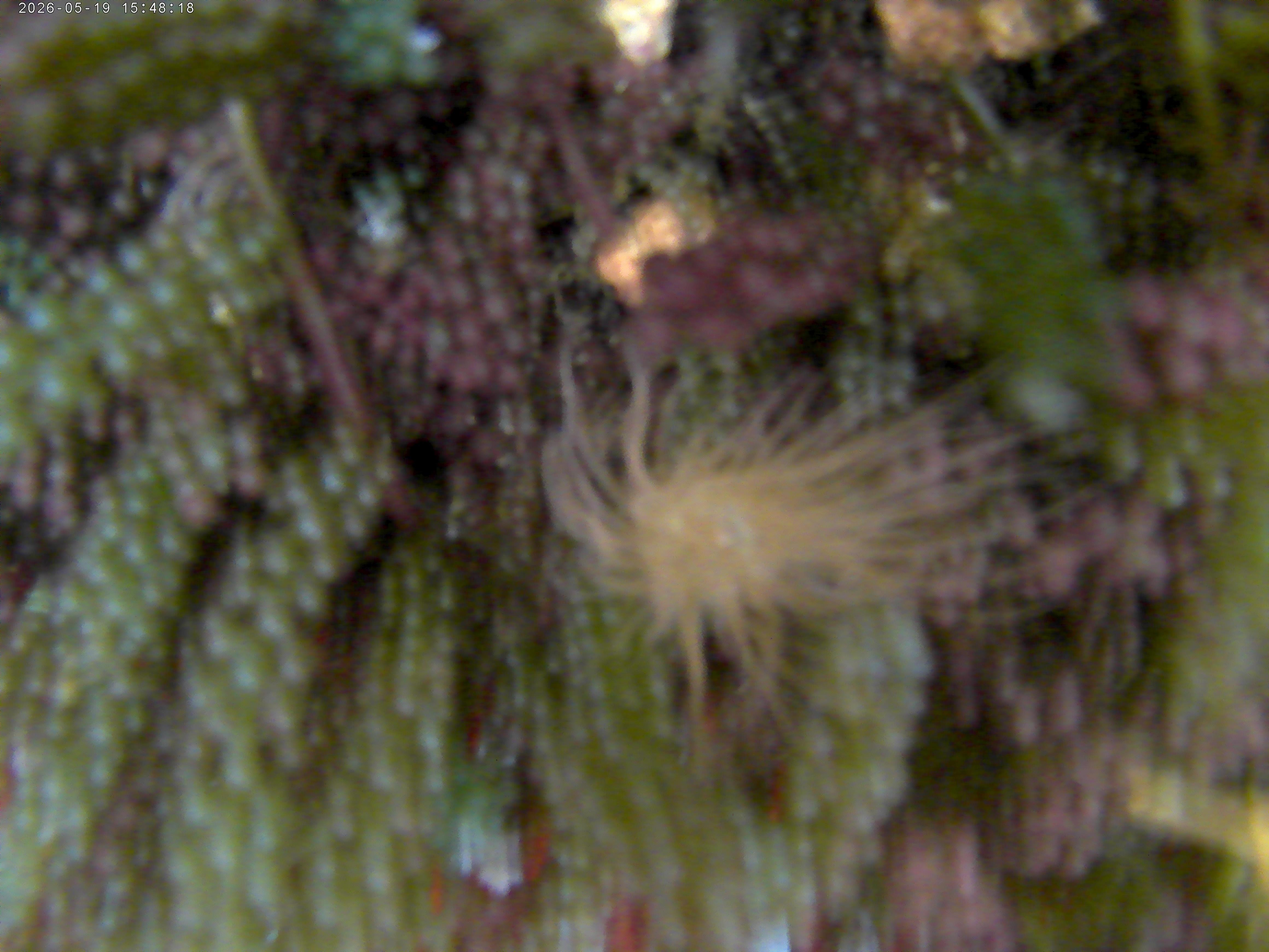Darkening: (1156, 345, 1207, 399), (1130, 279, 1164, 337), (1115, 368, 1154, 416), (183, 489, 217, 527), (7, 191, 40, 229), (235, 460, 266, 498), (819, 98, 849, 129), (827, 62, 857, 92), (60, 208, 90, 237), (14, 155, 42, 185), (51, 157, 78, 187), (109, 189, 136, 217), (372, 326, 397, 356), (921, 298, 947, 324), (494, 366, 523, 388), (882, 79, 907, 103), (112, 412, 137, 436), (84, 417, 109, 441), (509, 226, 532, 250), (281, 351, 304, 375), (891, 293, 913, 317), (465, 130, 489, 152), (484, 296, 505, 321), (400, 291, 423, 313), (857, 120, 880, 142), (895, 325, 916, 348), (367, 283, 386, 306), (468, 362, 488, 383), (287, 376, 307, 397), (463, 322, 481, 345), (397, 135, 417, 155), (756, 64, 775, 84), (774, 47, 793, 66), (413, 206, 432, 225), (509, 331, 526, 352), (493, 198, 508, 220), (850, 218, 868, 236), (781, 107, 799, 125), (784, 24, 802, 42), (513, 201, 529, 221), (412, 269, 432, 285), (717, 196, 735, 213), (514, 523, 532, 539), (925, 160, 943, 176), (766, 130, 783, 146), (512, 505, 529, 521), (804, 76, 820, 92), (860, 57, 875, 71), (528, 332, 542, 346)
Harvestable: (229, 634, 274, 688), (254, 600, 293, 644), (257, 535, 296, 578), (25, 302, 62, 340), (296, 514, 332, 549), (107, 299, 141, 332), (118, 242, 150, 275), (294, 583, 325, 615), (149, 281, 181, 310), (87, 267, 118, 296), (88, 759, 117, 789), (123, 491, 152, 520), (1204, 474, 1234, 502), (312, 554, 341, 582), (240, 236, 268, 264), (200, 446, 228, 473), (1163, 483, 1189, 510), (123, 706, 148, 734), (232, 289, 257, 315), (140, 583, 166, 608), (133, 462, 158, 487), (573, 605, 597, 631), (323, 471, 347, 495), (357, 485, 381, 509), (100, 520, 124, 544), (425, 770, 449, 794), (403, 608, 426, 633), (403, 569, 426, 593), (601, 605, 625, 628), (197, 216, 221, 239), (340, 445, 363, 468), (854, 306, 878, 328), (146, 642, 170, 664), (379, 593, 401, 616), (24, 675, 46, 698), (98, 912, 120, 934), (376, 173, 398, 194), (404, 167, 424, 188), (424, 554, 445, 574), (379, 574, 400, 594), (836, 375, 857, 395), (1109, 167, 1129, 187), (1087, 161, 1107, 181), (80, 618, 100, 638), (951, 167, 970, 187), (564, 643, 583, 663), (782, 165, 800, 182), (773, 149, 790, 166), (986, 156, 1003, 173), (51, 612, 67, 628)
